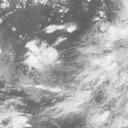cyclone: (98, 31, 125, 85), (24, 37, 61, 74)
